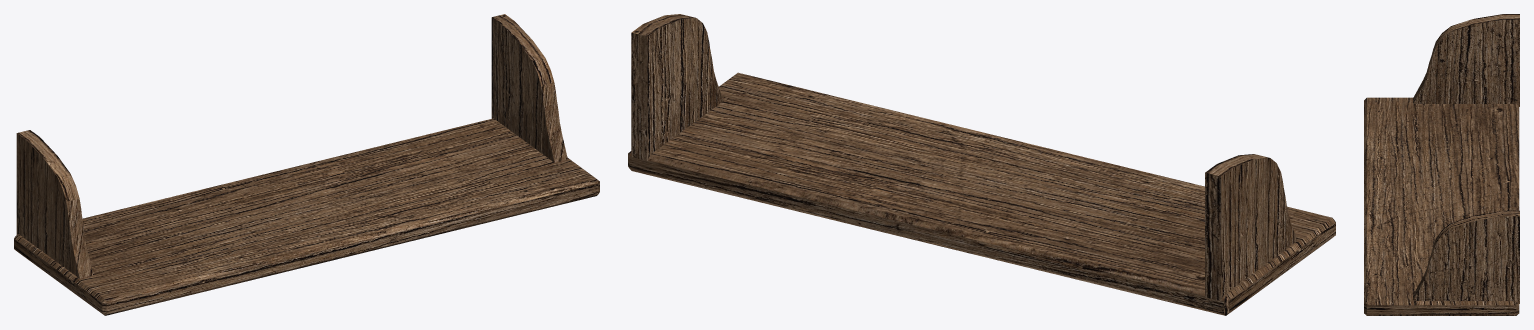
File: Polka.glb
3 views of the same model, side by side, from view 1: azimuth 30°, elevation 25°; view 2: azimuth 150°, elevation 25°; view 3: azimuth 270°, elevation 25° (orthographic). The views are drawn at different scales.
Parts seen in each view (by area): view 1: shelf_low; view 2: shelf_low; view 3: shelf_low.
Part boxes in pixels (x1=…): shelf_low: x1=14, y1=14, x2=599, y2=315; shelf_low: x1=628, y1=14, x2=1335, y2=315; shelf_low: x1=1364, y1=14, x2=1519, y2=315.
Size of the model in its own units: 0.8833 by 0.1975 by 0.2823.
1 material, 1 textured.
